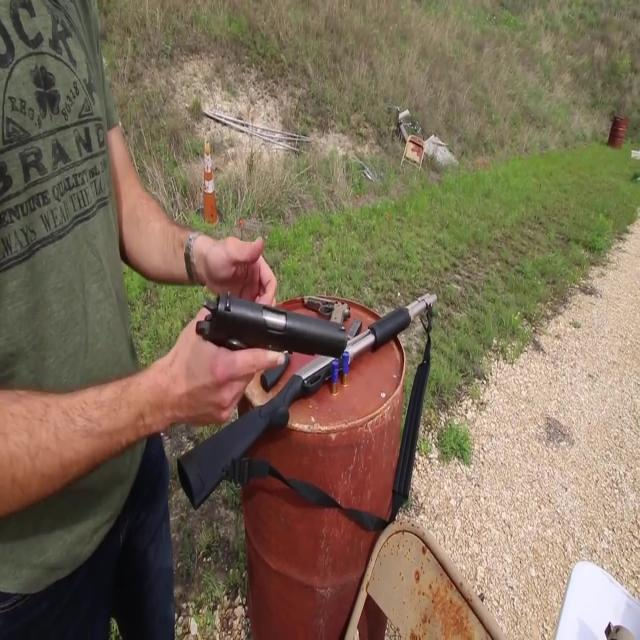Weapon: (283, 255, 459, 429), (179, 260, 358, 406), (168, 423, 284, 539)
